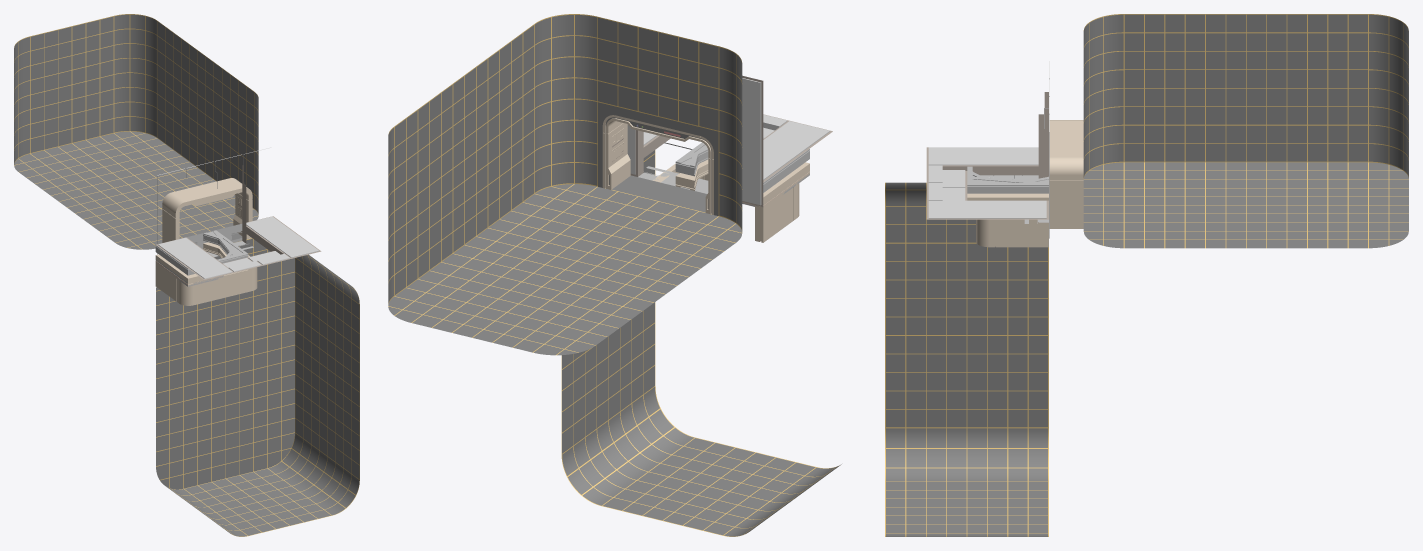
The model's file is tng-holodeck-cc-by-nc-4.0-redgeneral.glb.
The picture shows the model from 3 angles, left to right: view 1: azimuth 30°, elevation 25°; view 2: azimuth 150°, elevation 25°; view 3: azimuth 270°, elevation 25°; orthographic projection. The views are drawn at different scales.
Parts seen in each view (by area): view 1: ID1660 (×2), ID416 (×2), ID375, ID363, door_surround, cargo_arch, ID81, archway_half_1, ID381; view 2: ID1660 (×2), ID363 (×2), ID416 (×2), ID4044, SketchUp, door_surround (×2), cargo_arch, ID81, ID381; view 3: ID1660 (×2), ID416 (×2), door_surround (×2), ID375, ID363, ID345, cargo_arch, ID81, archway_half_1.
Part boxes in pixels (x1,y1,x2,y2): ID1660 (×2): (14,14,359,536); ID416 (×2): (155,178,257,305); ID375: (246,216,318,257); ID363: (158,237,232,278); door_surround: (156,216,321,279); cargo_arch: (155,242,247,284); ID81: (155,234,248,275); archway_half_1: (155,230,248,269); ID381: (187,224,242,248); ID1660 (×2): (388,14,837,536); ID363 (×2): (742,78,829,205); ID416 (×2): (602,115,799,242); ID4044: (587,102,718,224); SketchUp: (612,175,707,212); door_surround (×2): (630,75,832,207); cargo_arch: (675,159,809,205); ID81: (675,150,809,192); ID381: (638,166,708,193); ID1660 (×2): (885,14,1408,536); ID416 (×2): (976,120,1083,247); door_surround (×2): (926,92,1048,219); ID375: (928,200,1046,218); ID363: (928,147,1038,165); ID345: (928,165,965,187); cargo_arch: (967,193,1048,200); ID81: (967,186,1048,193); archway_half_1: (967,166,1048,185).
Bounding box in the file's own units: 6.55 × 14.64 × 15.67.
